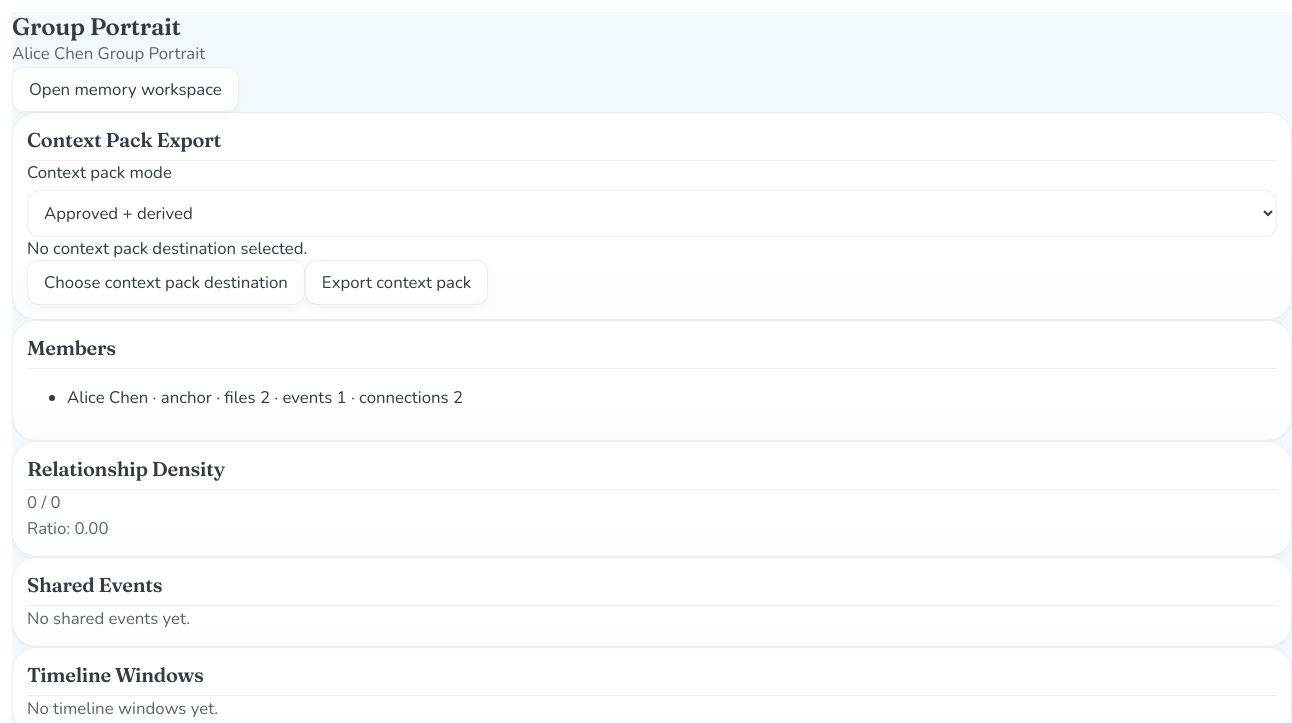
Test: GroupPortraitPage › exports a group context pack with the selected mode
Expected: the heading "Group Portrait" is shown, [12, 12, 181, 41]
Select "Approved only" in the dropdown labelled "Context pack mode" at (652, 214), box [27, 190, 1277, 237]
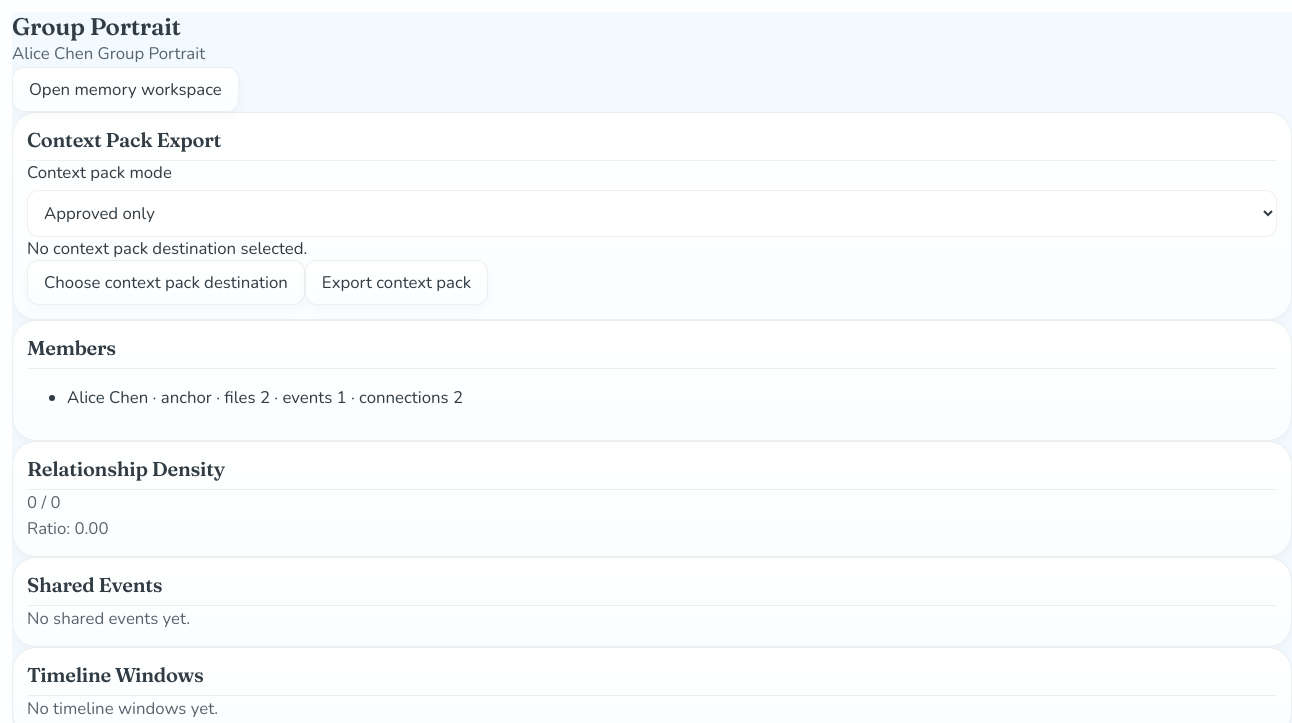
Click the button "Choose context pack destination" at (166, 282), box [27, 260, 305, 305]
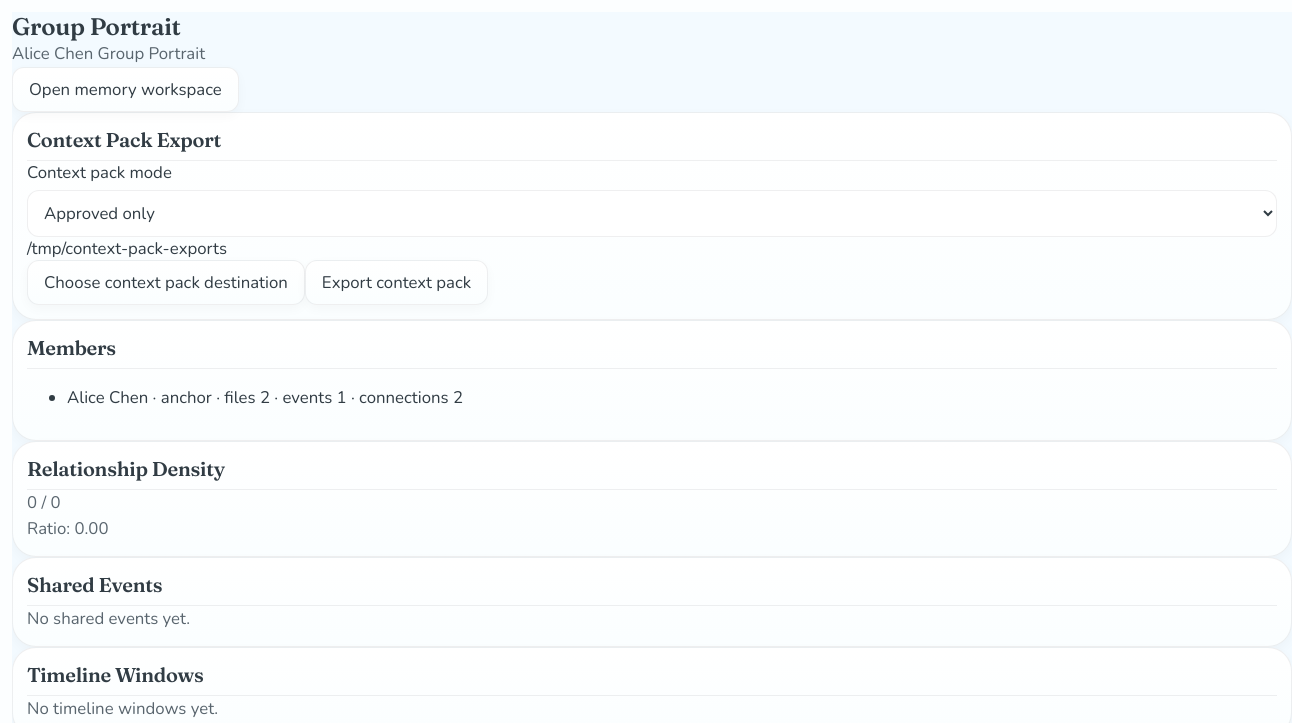
Click the button "Export context pack" at (396, 282), box [305, 260, 488, 305]
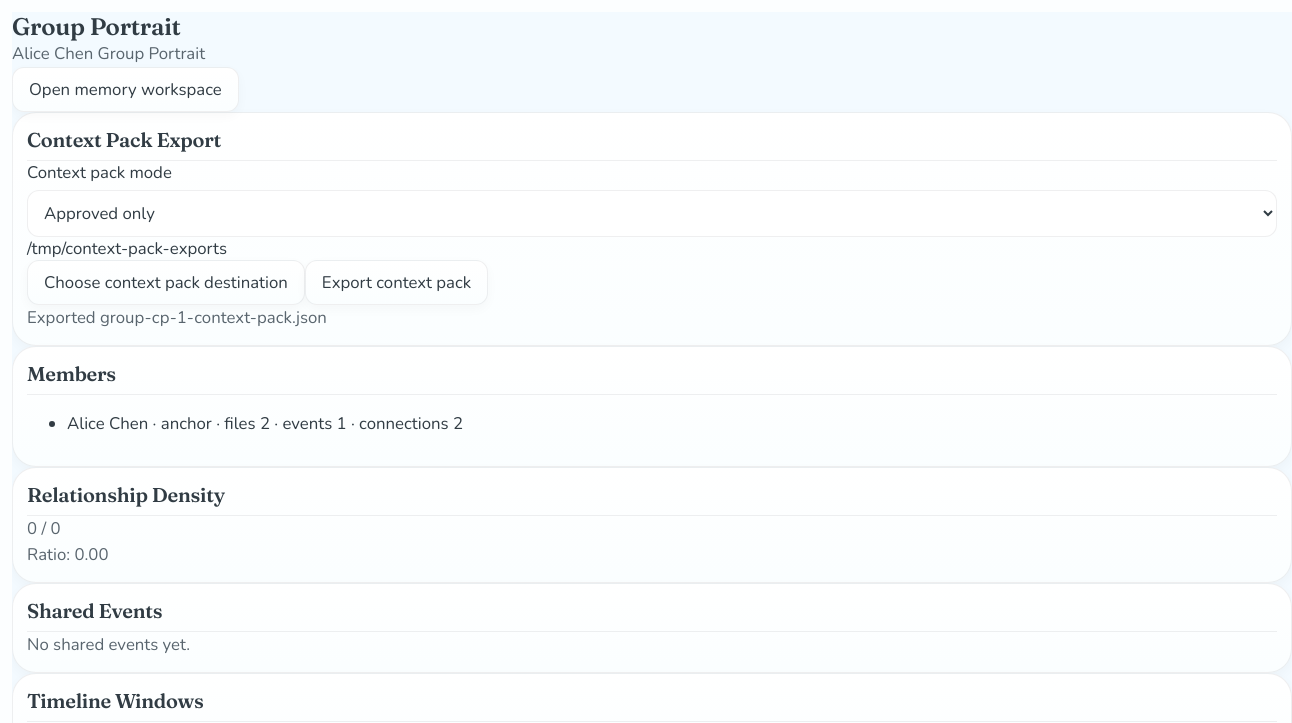
Result: the text "Exported group-cp-1-context-pack.json" is shown at [27, 306, 327, 329]
